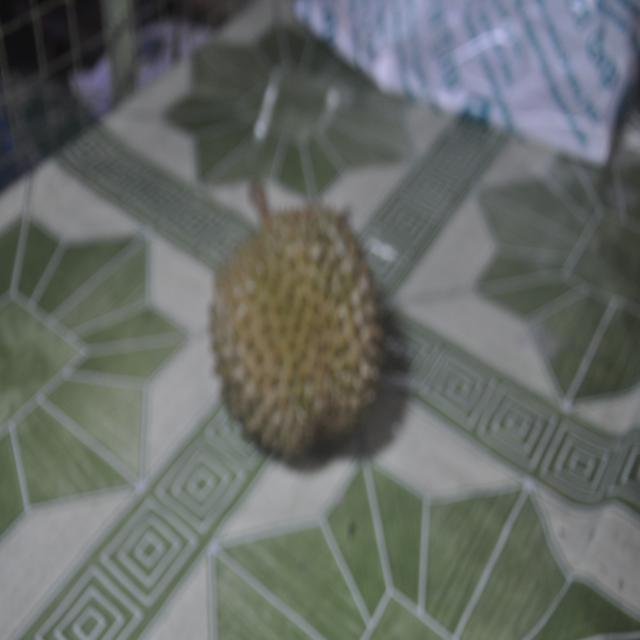mature: (184, 150, 408, 466)
